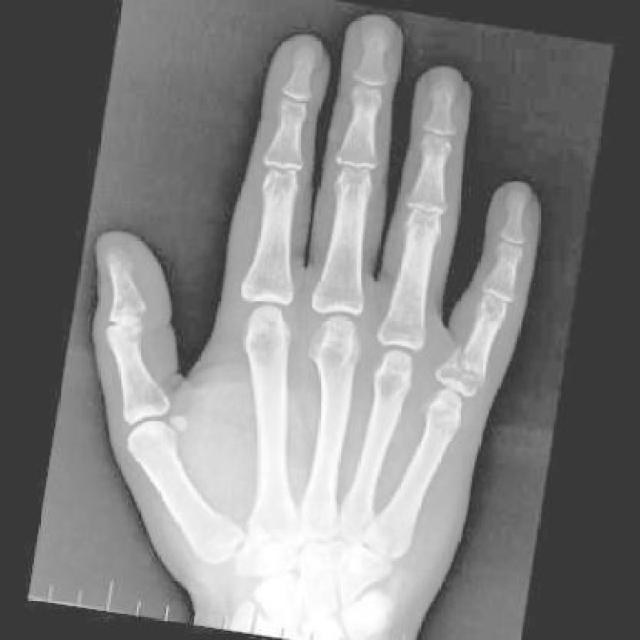Fracture: (448, 339, 491, 385)
